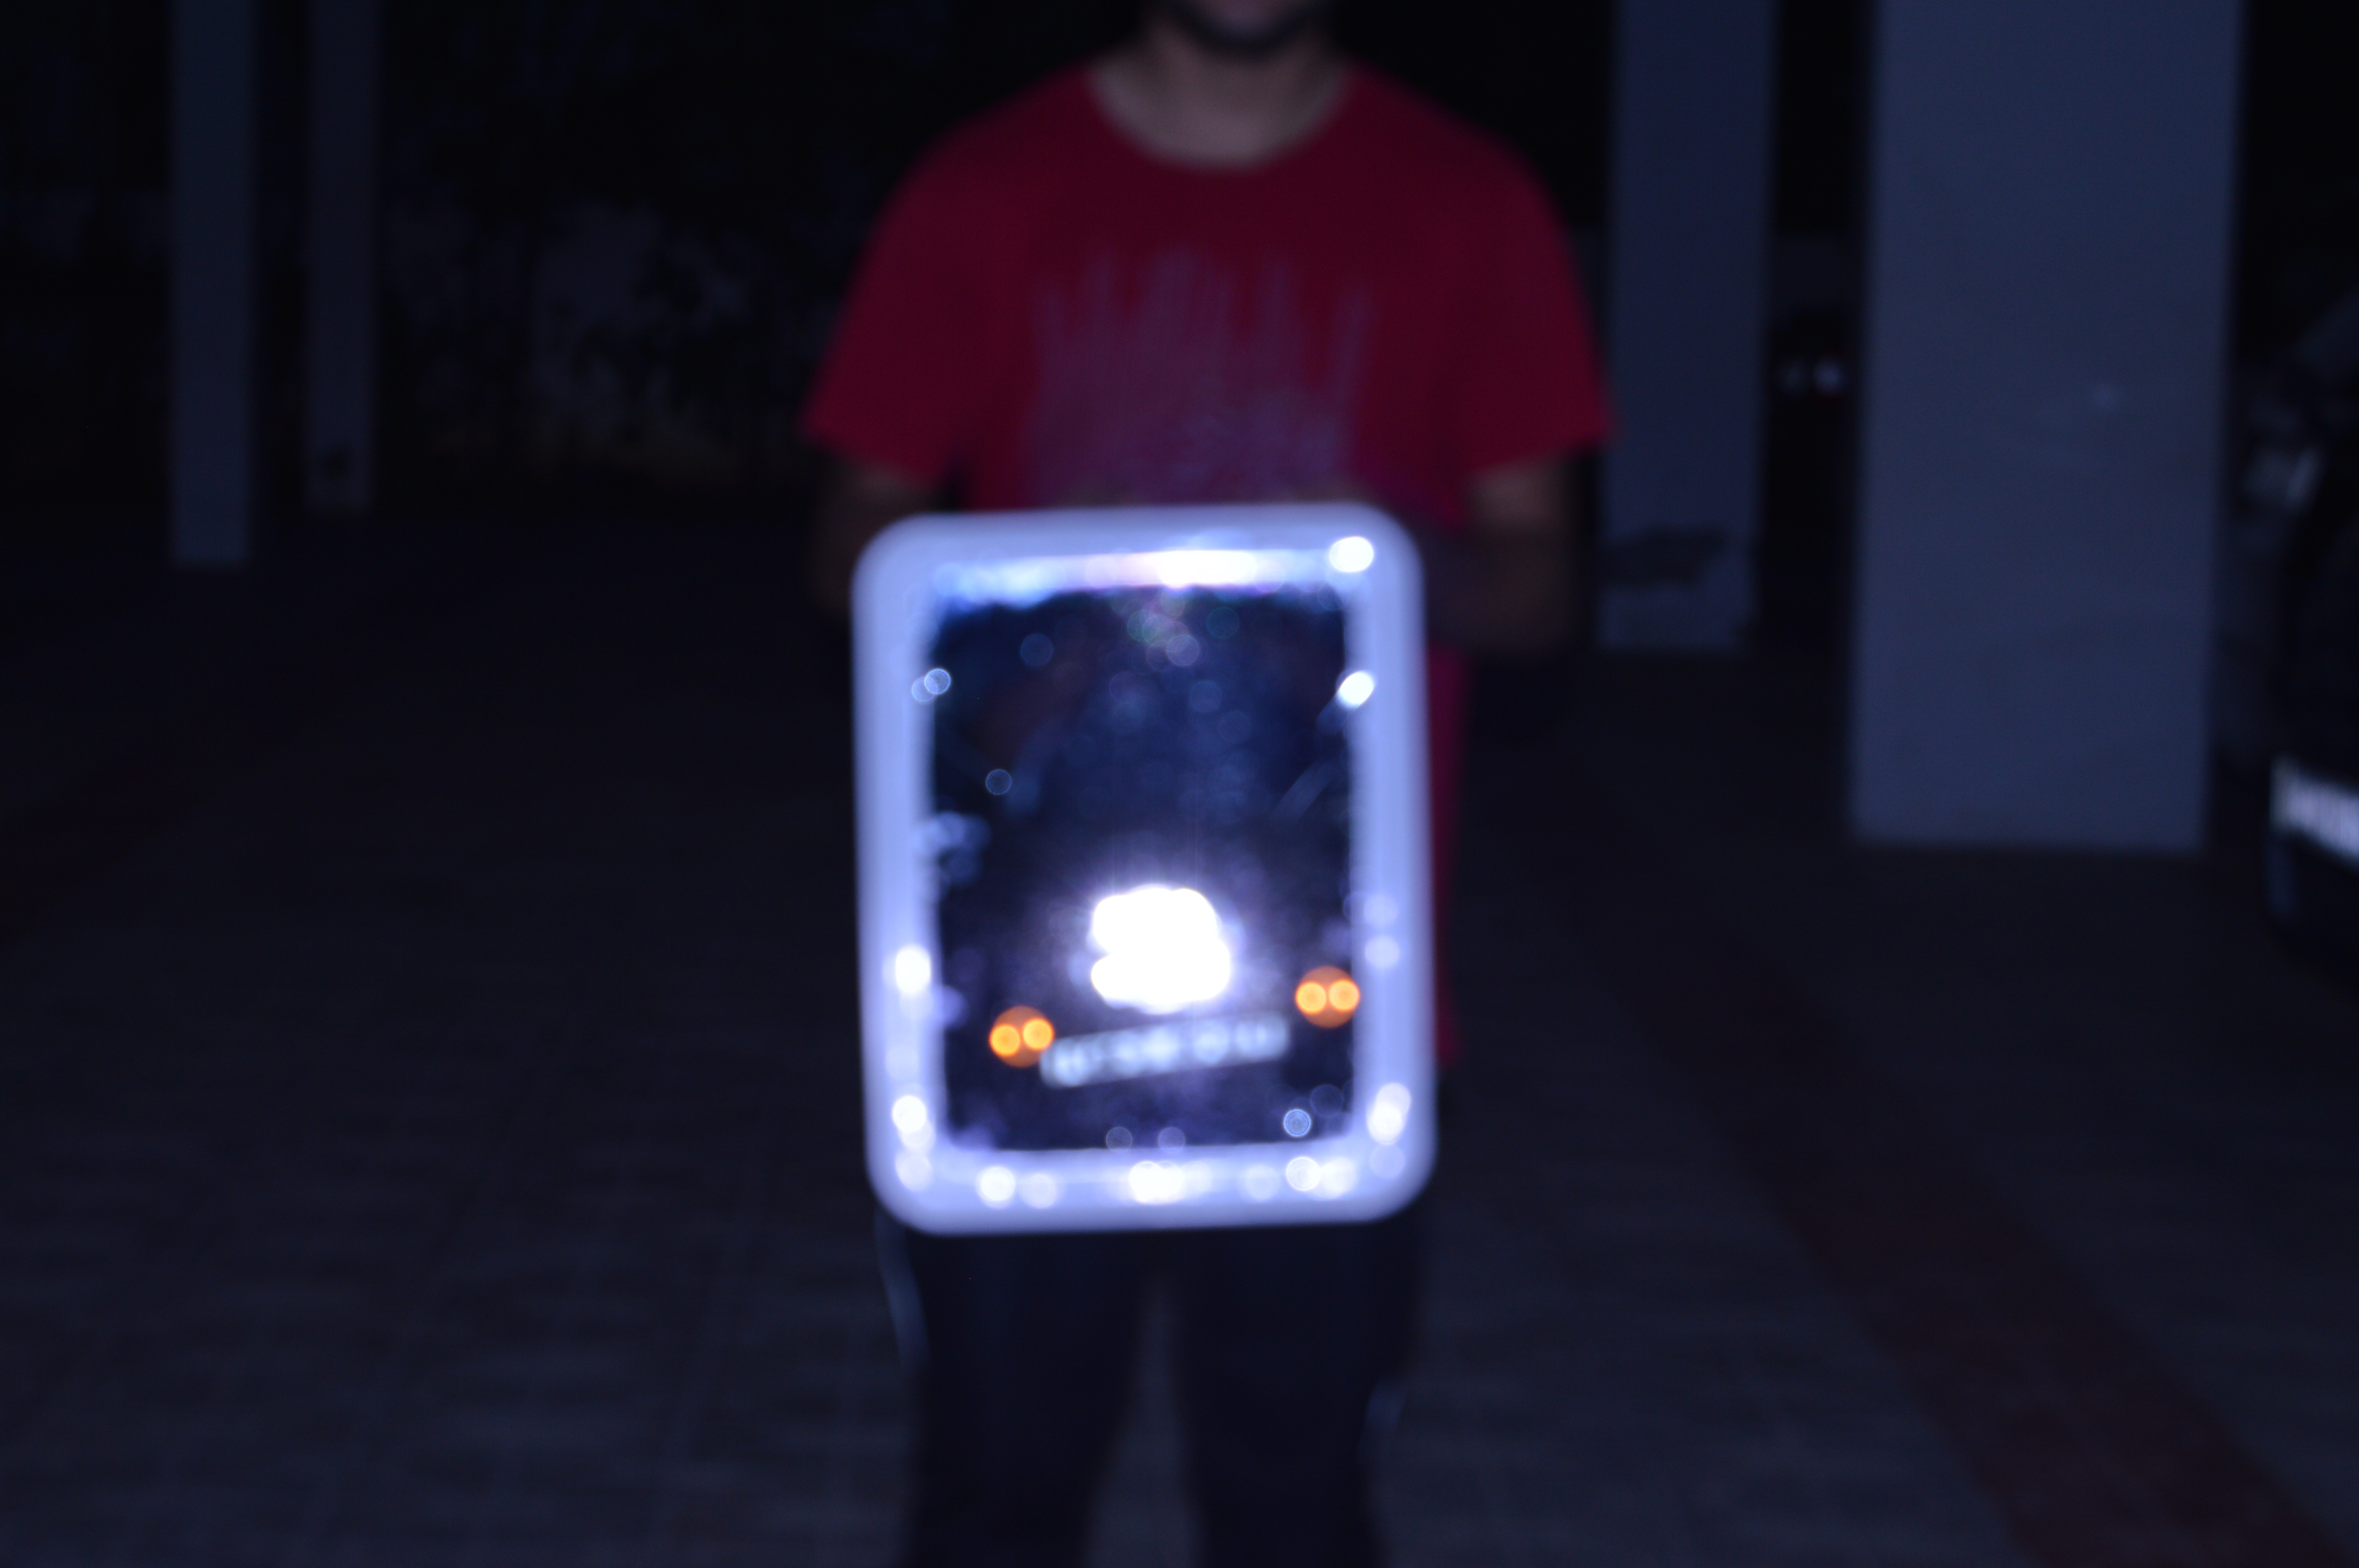Glare: (1081, 871, 1241, 1020)
